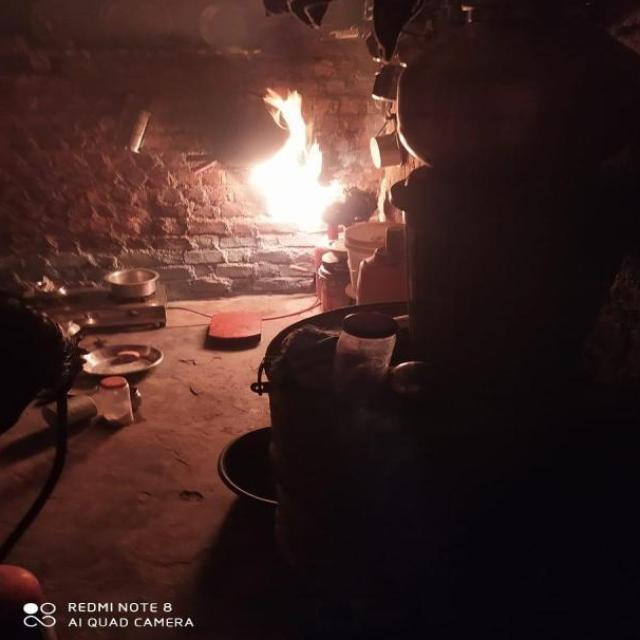smoke: (245, 82, 346, 233)
